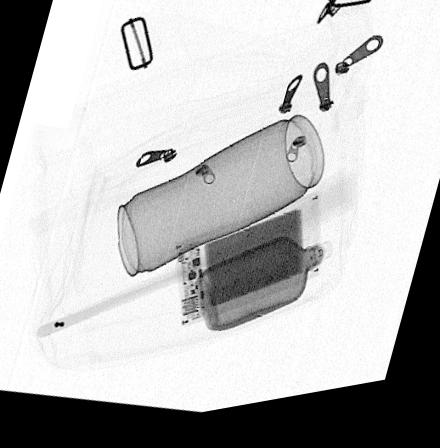Powerbank: (176, 202, 320, 332)
